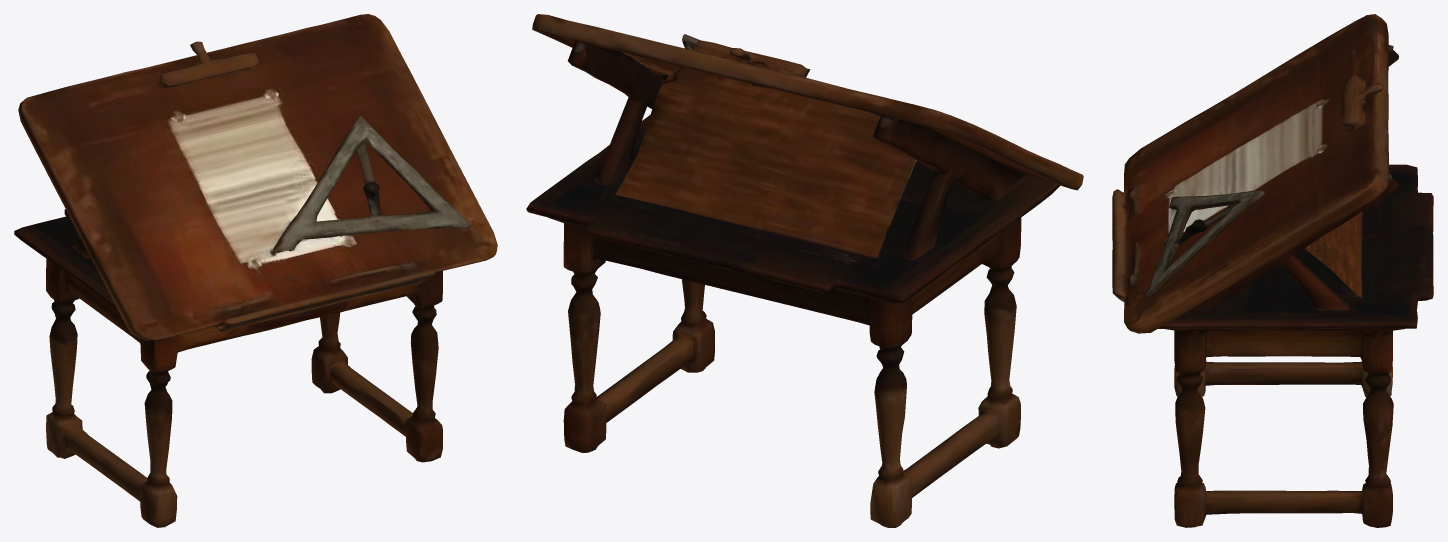
The model's file is tablero_dibujo.glb.
3 renders of one model, left to right at view 1: azimuth 30°, elevation 25°; view 2: azimuth 150°, elevation 25°; view 3: azimuth 270°, elevation 25°, orthographic. The views are drawn at different scales.
Parts seen in each view (by area): view 1: geometry_0; view 2: geometry_0; view 3: geometry_0.
Boxes of the visible parts, box(x1,y1,x2,y2) form: geometry_0: box(14, 14, 497, 527); geometry_0: box(526, 14, 1083, 527); geometry_0: box(1112, 14, 1433, 527).
Bounding box in the file's own units: 1.1 × 1.1 × 0.85.
1 material, 1 textured.
